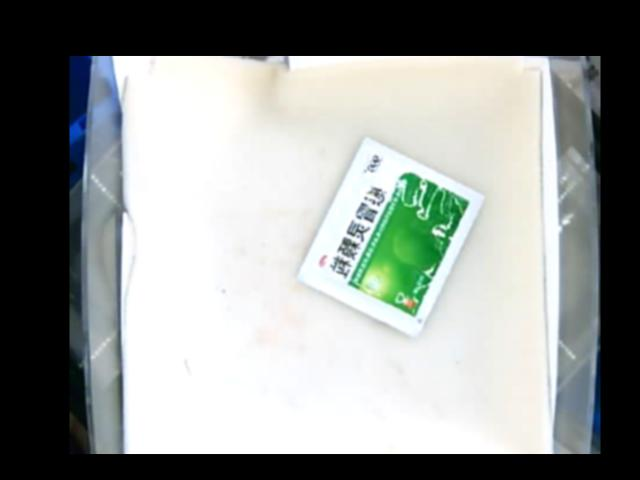Medicine: (296, 137, 487, 337)
